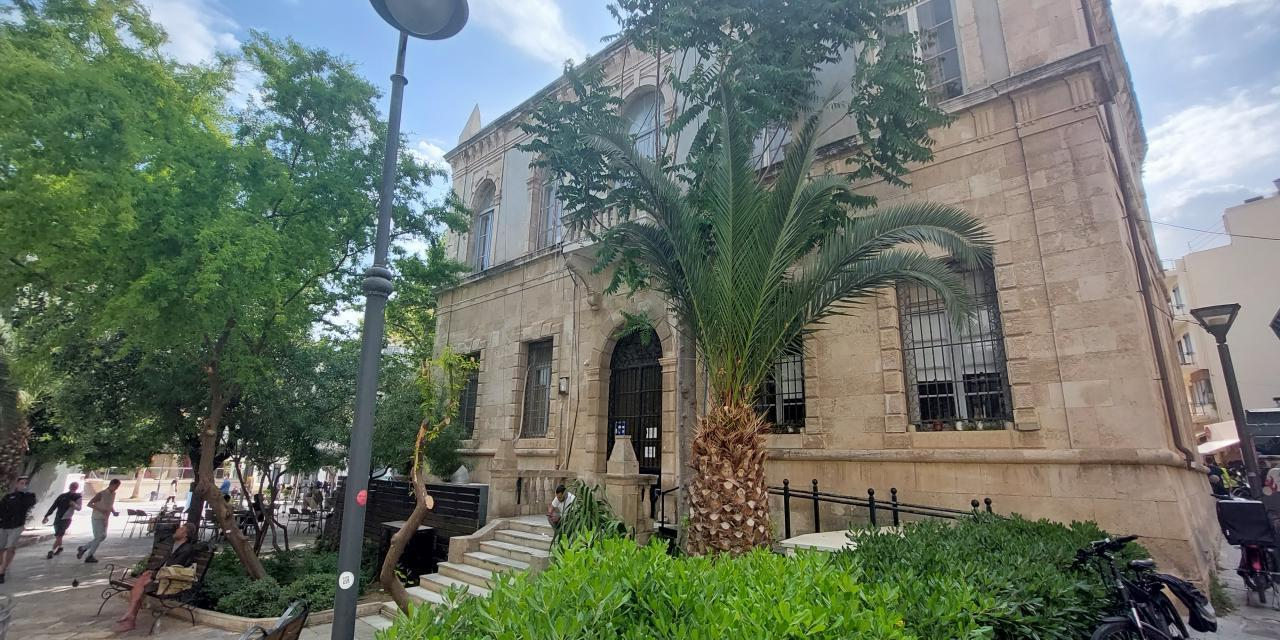Agios Titos: (400, 5, 1223, 578)
